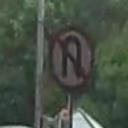NoVirarU: (50, 28, 94, 92)
